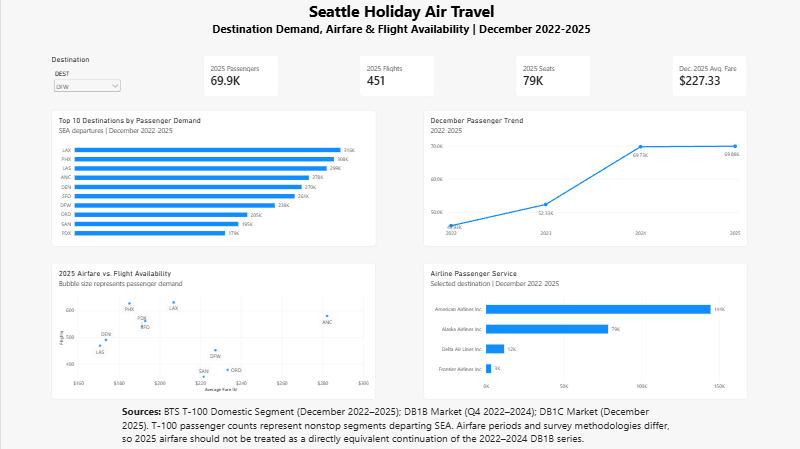

The dashboard page shown, as its layout file describes it:
{"tool":"powerbi","page":{"name":"Overview","canvas":[1920,1080],"ordinal":0},"visuals":[{"type":"textbox","box":[0,0,1920.6,88.6],"z":0},{"type":"slicer","title":"Destination","fields":{"Values":["master_top10_destinations.DEST"]},"box":[120.1,130.6,170,100],"z":1000},{"type":"cardVisual","title":"2025 Passengers","fields":{"Data":["Sum(top10_2025_balance.PASSENGERS_2025)"]},"box":[484.7,130.6,180,100],"z":2000},{"type":"cardVisual","title":"2025 Flights","fields":{"Data":["Sum(top10_2025_balance.FLIGHTS_2025)"]},"box":[859.2,130.6,180,100],"z":3000},{"type":"cardVisual","title":"2025 Seats","fields":{"Data":["Sum(top10_2025_balance.SEATS_2025)"]},"box":[1233.7,130.6,180,100],"z":4000},{"type":"cardVisual","title":"December 2025 Avg. Fare","fields":{"Data":["Avg(top10_2025_balance.FARE_2025)"]},"box":[1608.2,130.6,180,100],"z":5000},{"type":"clusteredBarChart","title":"Top 10 Destinations by Passenger Demand","fields":{"Category":["master_top10_destinations.DEST"],"Y":["Sum(master_top10_destinations.PASSENGERS)"]},"box":[120.1,264.3,777.8,327.4],"z":6000},{"type":"lineChart","title":"December Passenger Trend","fields":{"Category":["top10_yearly_demand.YEAR"],"Y":["Sum(top10_yearly_demand.PASSENGERS)"]},"box":[1012.1,264.3,777,327],"z":7000},{"type":"scatterChart","title":"2025 Airfare vs. Flight Availability","fields":{"Category":["top10_2025_balance.DEST"],"Size":["Sum(top10_2025_balance.PASSENGERS_2025)"],"X":["Avg(top10_2025_balance.FARE_2025)"],"Y":["Sum(top10_2025_balance.FLIGHTS_2025)"]},"box":[121.6,630.7,777,327],"z":8000},{"type":"clusteredBarChart","title":"Airline Passenger Service","fields":{"Category":["airline_by_destination_top10.UNIQUE_CARRIER_NAME"],"Y":["Sum(airline_by_destination_top10.PASSENGERS)"]},"box":[1013.6,630.7,777,327],"z":9000},{"type":"textbox","box":[289.8,970.1,1318.4,109.6],"z":10000}]}

Visuals, with their boxes in screenshot pixels (x1, y1, x2, y2), scaled from the page's 1920x1080 canvas onto the 800x449 screenshot:
textbox: 0/0/799/37
"Destination" slicer: 50/54/121/96
"2025 Passengers" cardVisual: 202/54/277/96
"2025 Flights" cardVisual: 358/54/433/96
"2025 Seats" cardVisual: 514/54/589/96
"December 2025 Avg. Fare" cardVisual: 670/54/745/96
"Top 10 Destinations by Passenger Demand" clusteredBarChart: 50/110/374/246
"December Passenger Trend" lineChart: 422/110/745/246
"2025 Airfare vs. Flight Availability" scatterChart: 51/262/374/398
"Airline Passenger Service" clusteredBarChart: 422/262/746/398
textbox: 121/403/670/448
